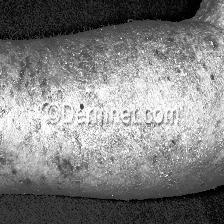Non-Cancerous Skin Condition: (49, 44, 224, 102), (50, 127, 220, 182), (0, 55, 44, 177)
